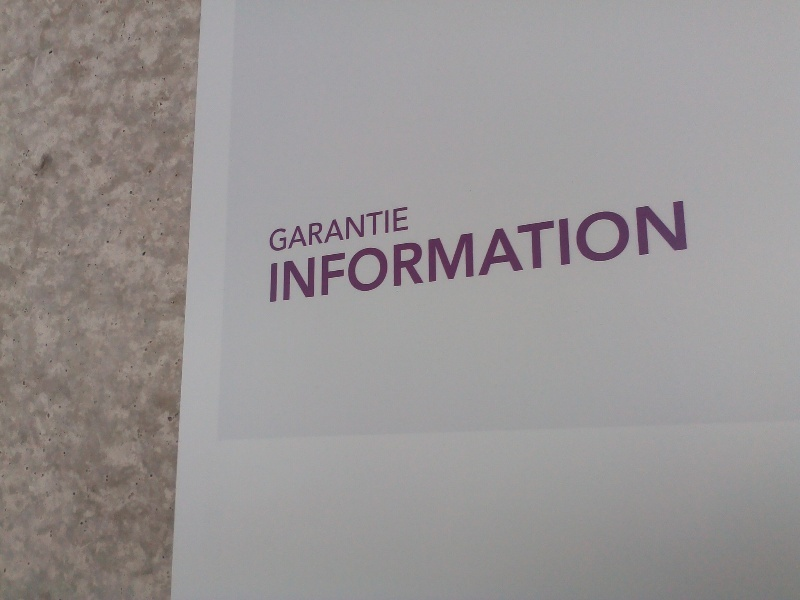text: (273, 199, 288, 303), (289, 199, 304, 303), (305, 199, 320, 303), (321, 199, 336, 303), (337, 199, 352, 303), (353, 199, 368, 303), (369, 199, 384, 303), (385, 199, 400, 303), (401, 199, 416, 303), (417, 199, 432, 303), (433, 199, 448, 303), (449, 199, 464, 303), (465, 199, 480, 303), (481, 199, 496, 303), (497, 199, 512, 303), (513, 199, 528, 303), (529, 199, 544, 303), (545, 199, 560, 303), (561, 199, 576, 303), (577, 199, 592, 303), (593, 199, 608, 303), (609, 199, 624, 303), (625, 199, 640, 303), (641, 199, 656, 303), (657, 199, 672, 303), (673, 199, 687, 303), (273, 205, 288, 252), (289, 205, 304, 252), (305, 205, 320, 252), (321, 205, 336, 252), (337, 205, 352, 252), (353, 205, 368, 252), (369, 205, 384, 252), (385, 205, 400, 252), (401, 205, 410, 252), (271, 199, 272, 303), (270, 205, 272, 252)
